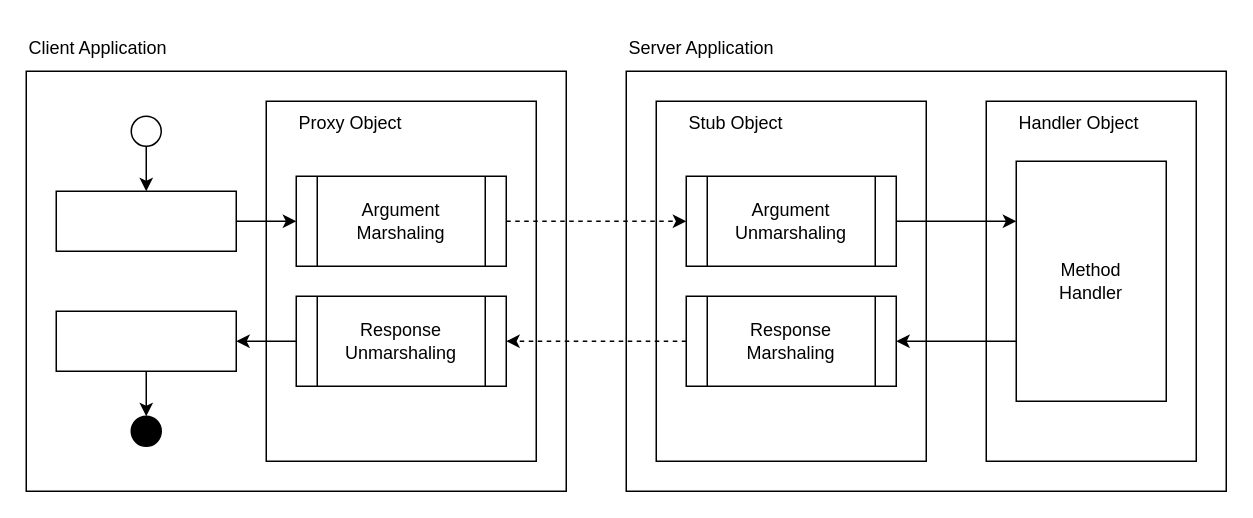
Image size: 1253x518. Some labels were removed from this diagram. The box of each missing label's shape, as (x1, y1, x2, y2) in pixels:
RPC call: (55, 190, 236, 251)
RPC result: (55, 310, 236, 371)
